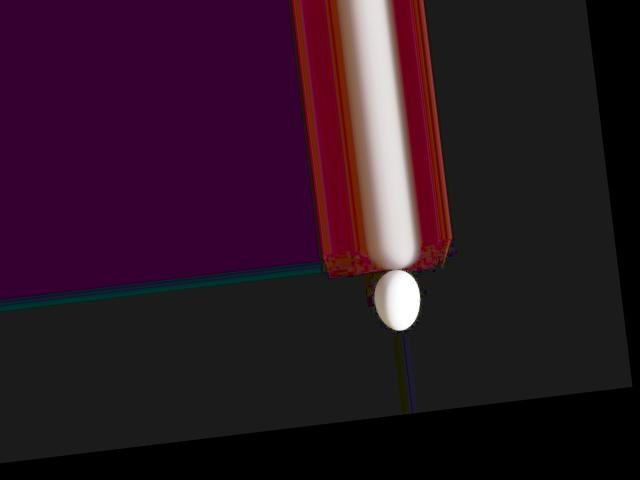egg: (372, 266, 424, 332)
